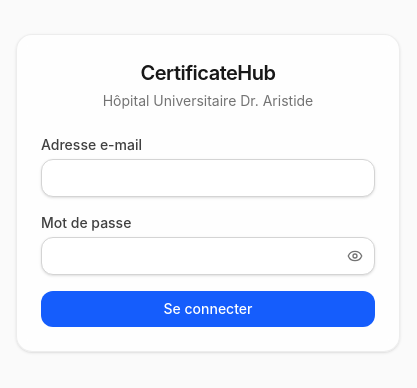
Scenario: LoginPage › submits credentials and shows an error on failure
Type "a@b.com" into the field labelled "Adresse e-mail" at (208, 178), box x1=41 y1=159 x2=375 y2=197
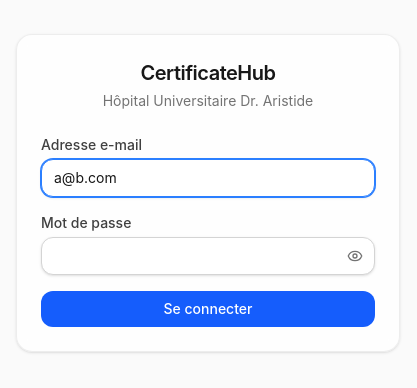
Type "wrong-password" into the password field labelled "Mot de passe" at (208, 256), box x1=41 y1=237 x2=375 y2=275
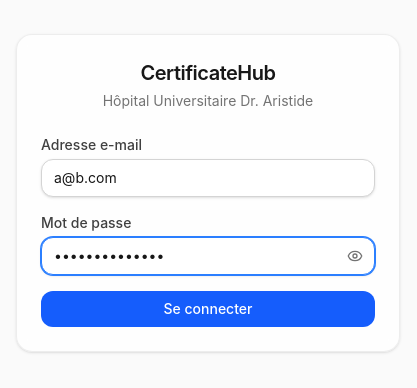
Click the button "Se connecter" at (208, 309), box x1=41 y1=291 x2=375 y2=327
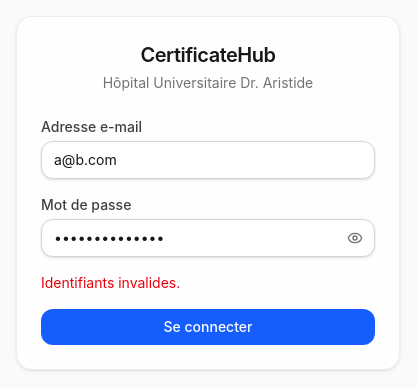
Now the text "Identifiants invalides." is shown, box x1=41 y1=274 x2=180 y2=291
